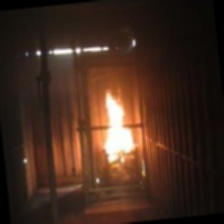fire: (96, 83, 140, 164)
